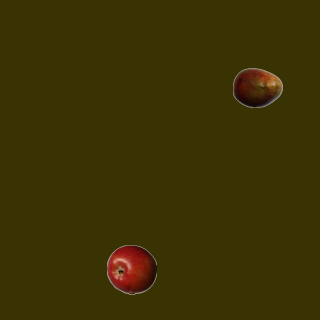Apple Braeburn: (106, 244, 156, 294)
Mango Red: (232, 62, 282, 112)
